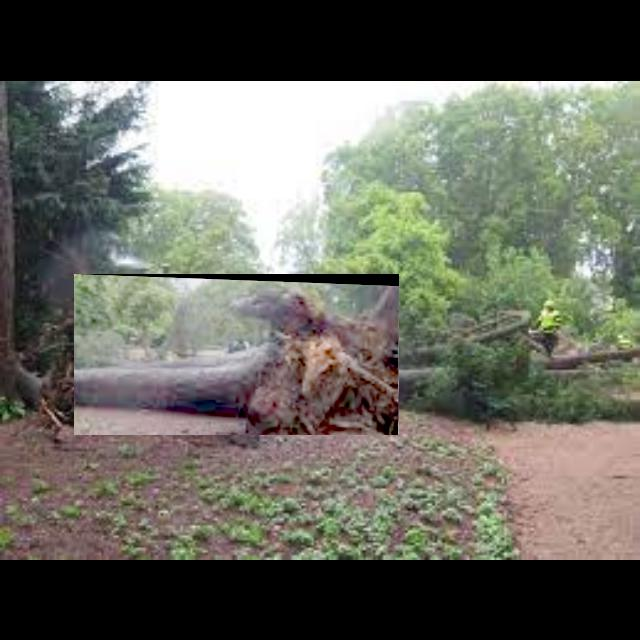Fallen Tree: (74, 274, 400, 436)
